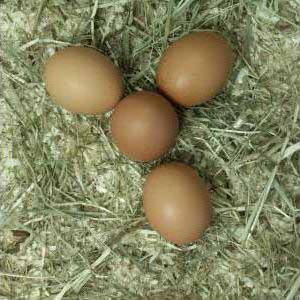egg: (156, 30, 232, 107), (143, 162, 212, 245), (44, 46, 123, 112), (110, 91, 179, 162)
